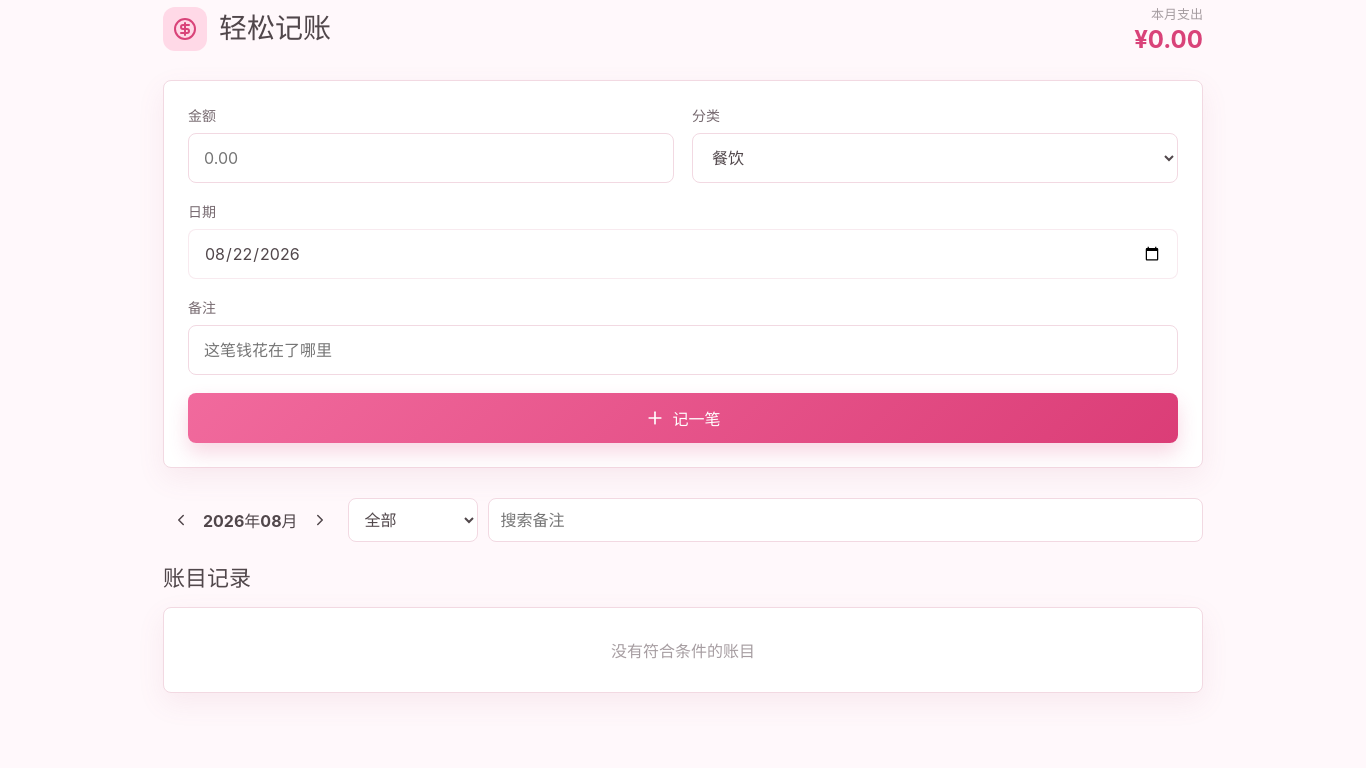
Test: AccountsPage › 添加账目时保存并显示选择的日期
This screenshot has width=1366, height=768.
In the field labelled "金额": point(431, 158) [188,133,674,183], type "58"
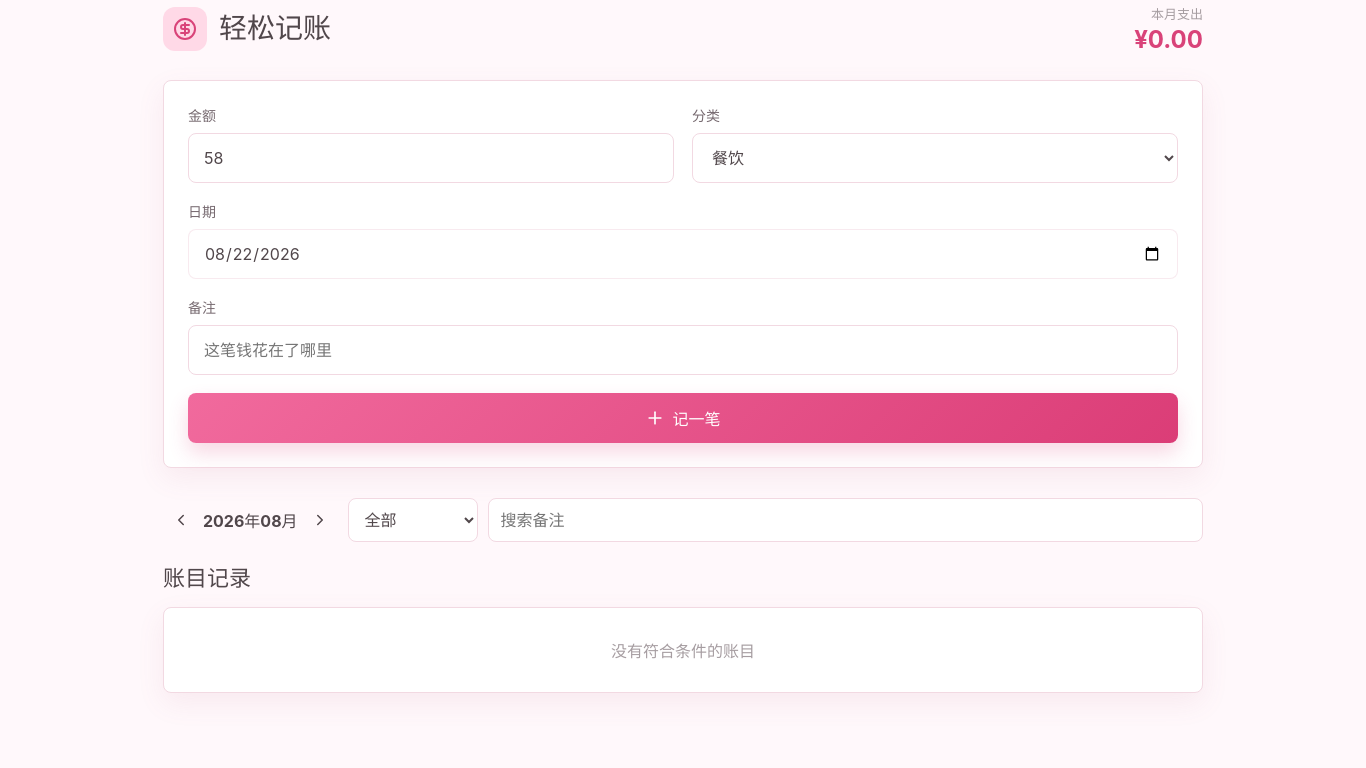
In the date field named "记账日期": point(683, 254) [188,229,1178,279], type "2026-08-09"
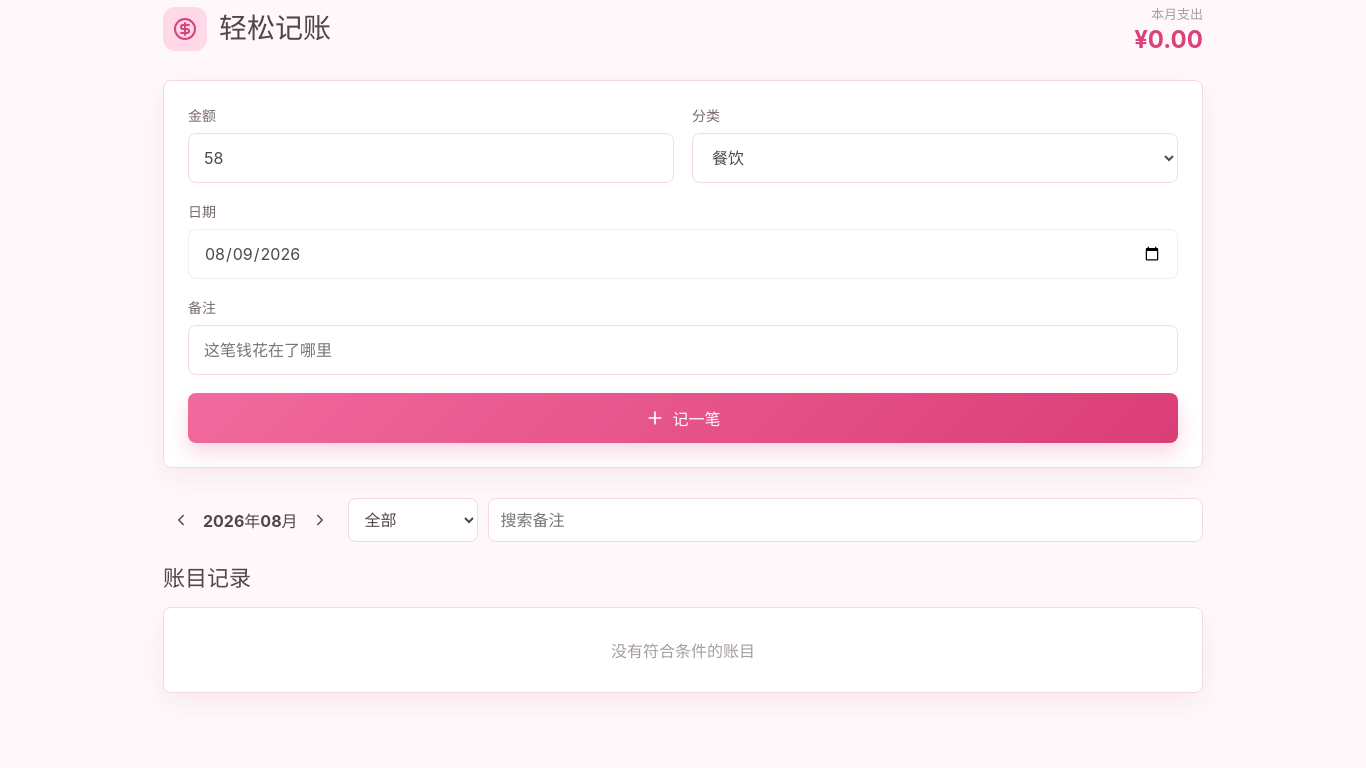
In the field labelled "备注": point(683, 350) [188,325,1178,375], type "晚餐"
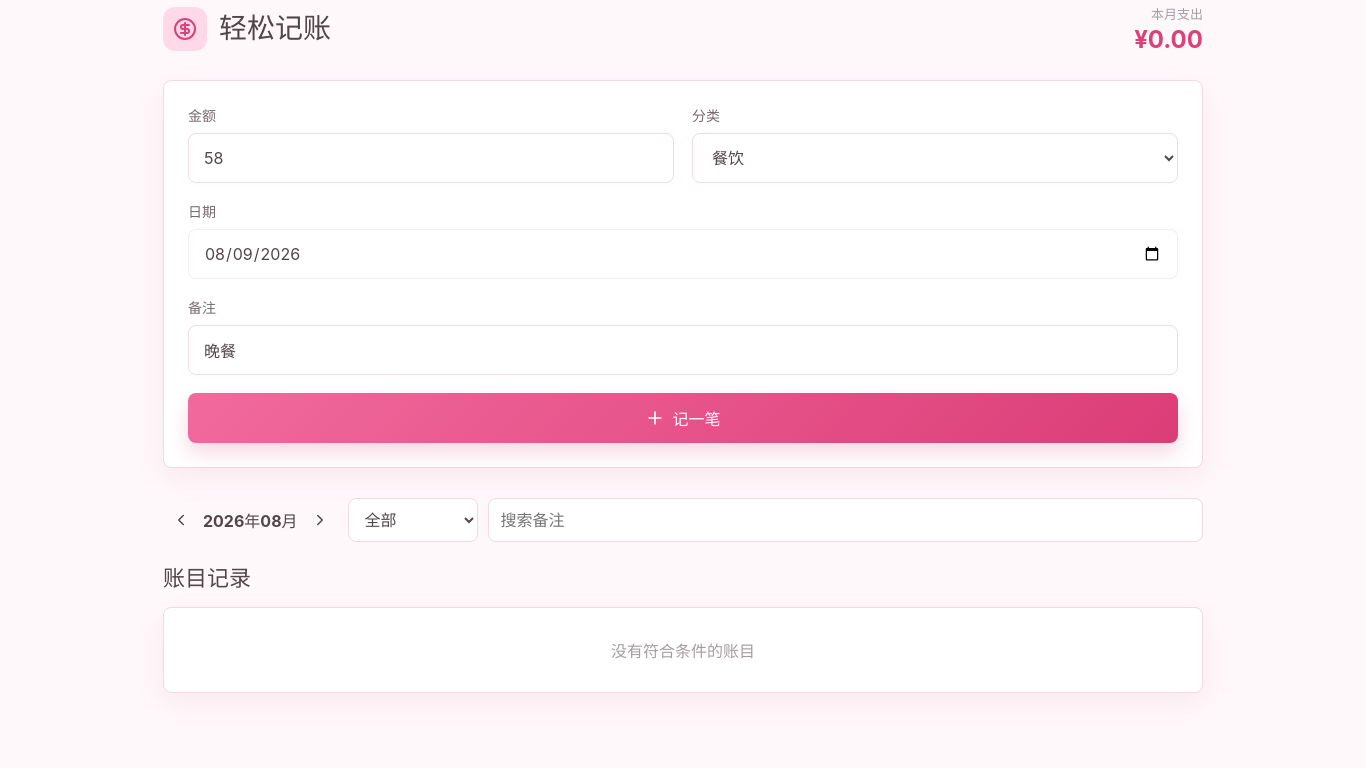
Click the button "记一笔": point(683, 418) [188,393,1178,443]
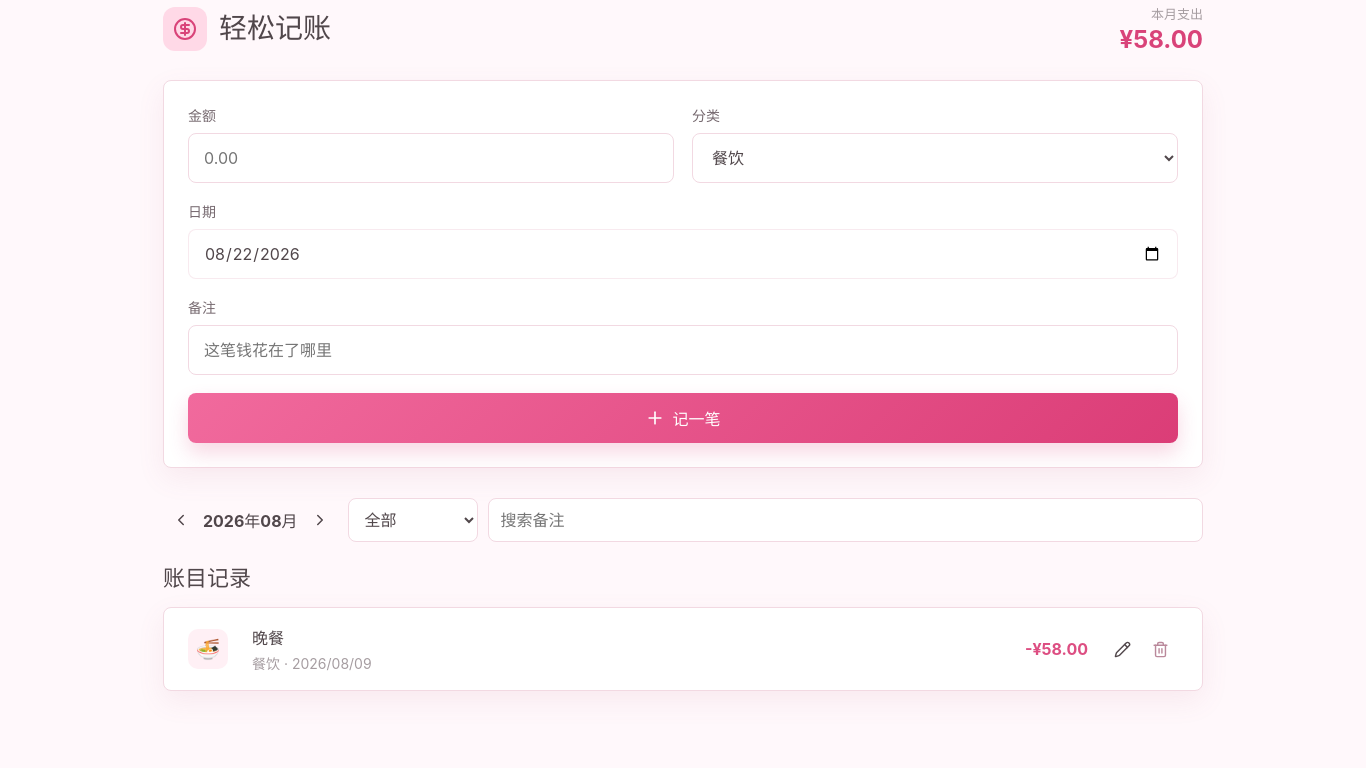
Now the text "晚餐" is shown, box [252,628,284,648]
Now the text "餐饮 · 2026/08/09" is shown, box [252,655,372,672]
